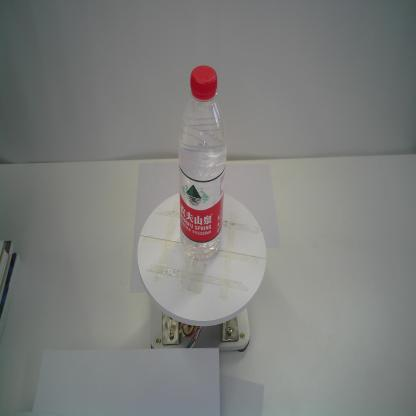Drink: (178, 64, 227, 263)
